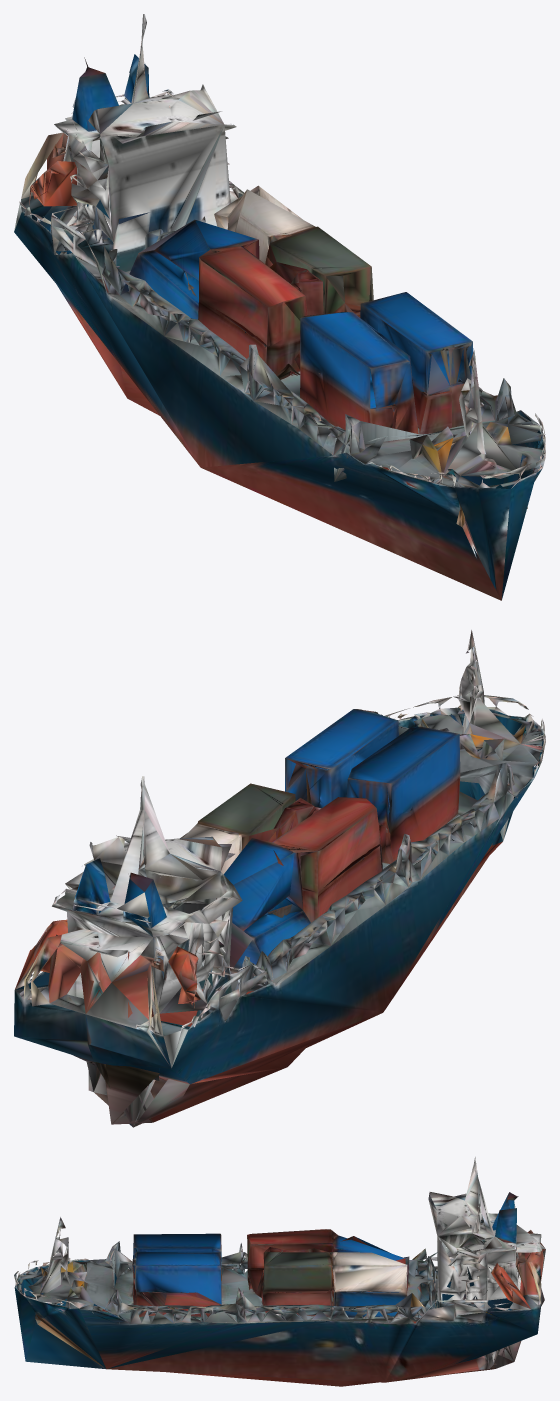
The model's file is hafen_frachtschiff_lo.glb.
3 renders of one model, top to bottom at view 1: azimuth 30°, elevation 25°; view 2: azimuth 150°, elevation 25°; view 3: azimuth 270°, elevation 25°, orthographic. The views are drawn at different scales.
Visible parts, largest first — view 1: Prop; view 2: Prop; view 3: Prop.
Part boxes in pixels (x1,y1,x2,y2): Prop: (14, 14, 545, 600); Prop: (14, 630, 545, 1127); Prop: (14, 1157, 545, 1386).
Bounding box in the file's own units: 0.5565 × 0.991 × 2.27.
1 material, 1 textured.
